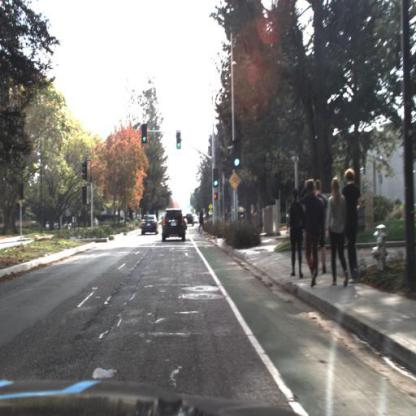biker: (198, 209, 206, 236)
car: (162, 209, 186, 245), (139, 213, 160, 238)
pedestrian: (326, 177, 350, 289), (343, 168, 362, 285), (305, 176, 319, 287), (289, 190, 305, 282), (318, 173, 327, 279)
trafficLight-Green: (234, 141, 242, 171), (141, 123, 148, 144), (176, 131, 181, 149), (215, 171, 220, 188)
